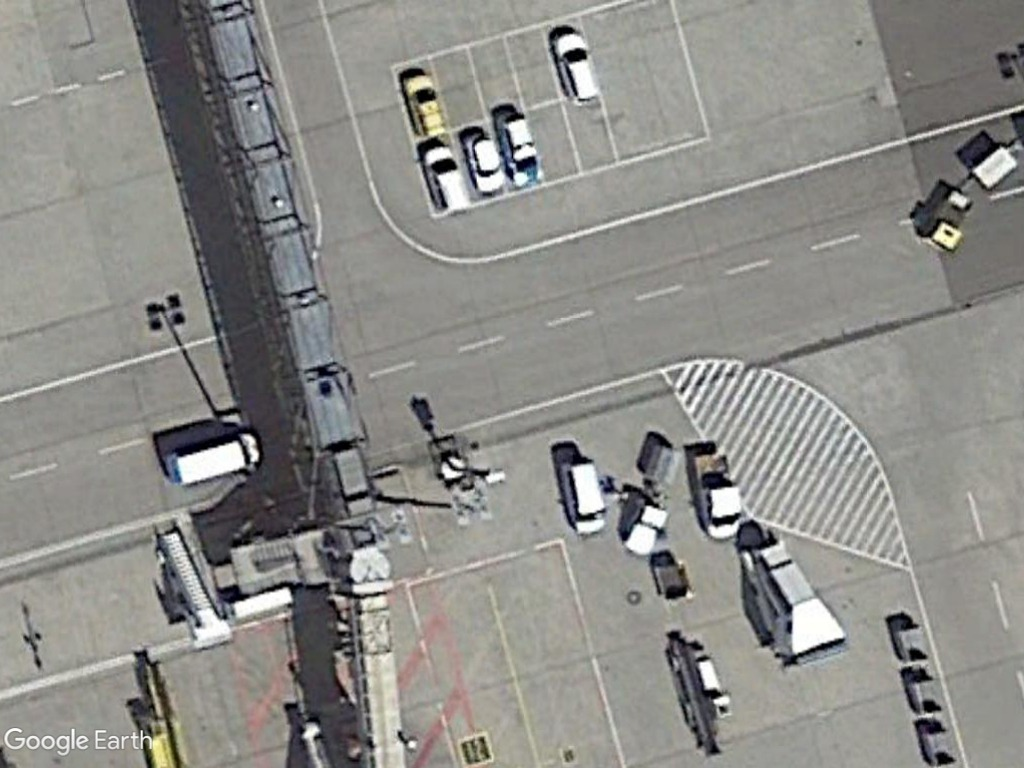car: (550, 30, 605, 107), (423, 142, 469, 214), (400, 71, 447, 139)
van: (164, 427, 264, 488), (555, 455, 612, 537)
